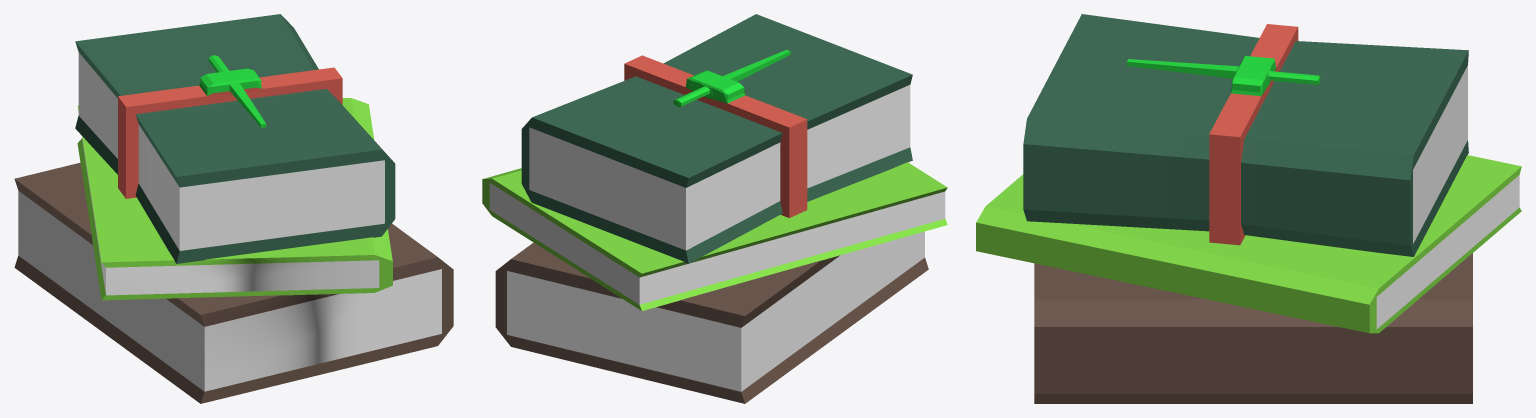
File: ksiazka-ustawienie4.fbx
3 views of the same model, side by side, from view 1: azimuth 30°, elevation 25°; view 2: azimuth 150°, elevation 25°; view 3: azimuth 270°, elevation 25° (orthographic). The views are drawn at different scales.
Visible parts, largest first — view 1: Cube.002; view 2: Cube.002; view 3: Cube.002.
Part boxes in pixels (<box>): Cube.002: <box>14,14,453,403</box>; Cube.002: <box>482,14,947,403</box>; Cube.002: <box>976,14,1521,403</box>.
Bounding box in the file's own units: 411 × 244 × 446.
